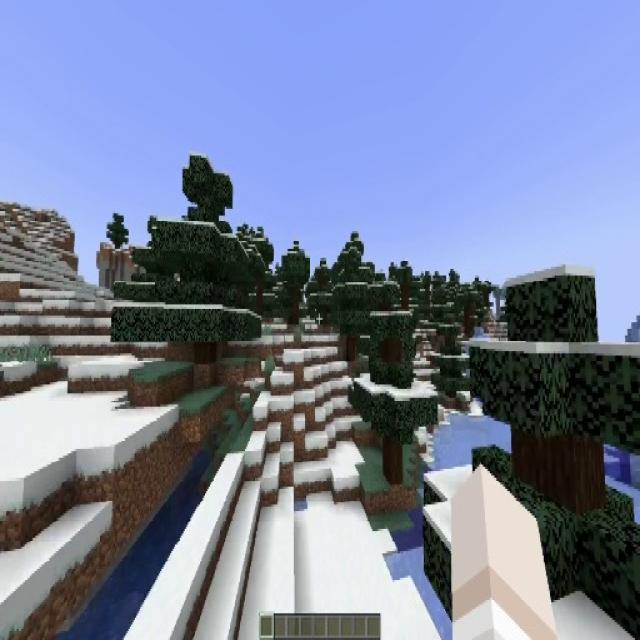spruce: (424, 268, 640, 640), (139, 152, 250, 369), (352, 305, 430, 490), (430, 327, 471, 400), (280, 241, 312, 324), (105, 213, 128, 250)
spruce_log: (510, 428, 604, 517), (384, 434, 403, 482), (194, 342, 216, 364), (288, 289, 298, 324), (346, 336, 354, 359)
